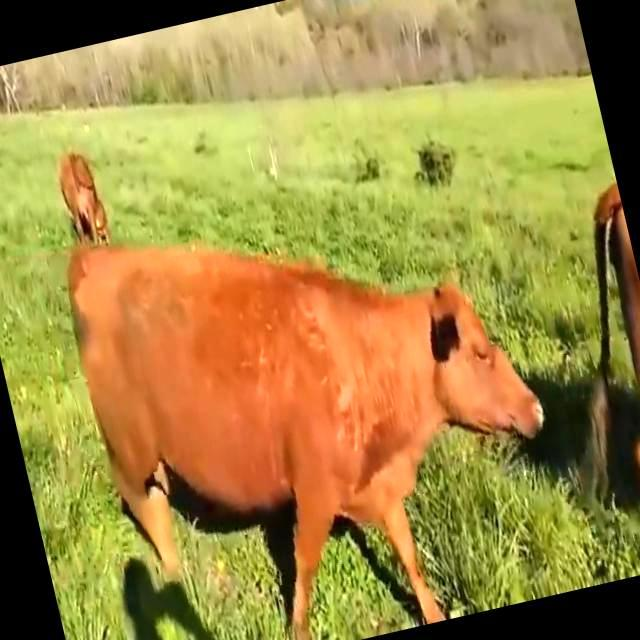COW: (69, 247, 543, 640)
